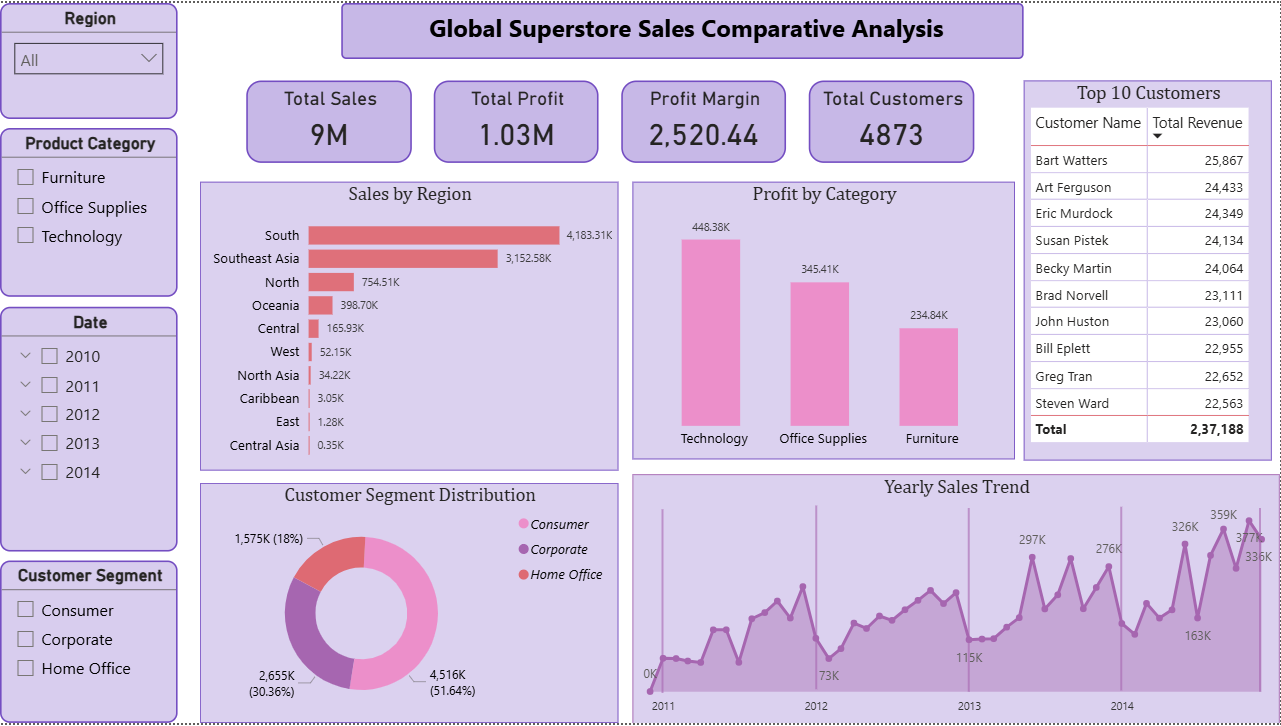

The page's visual inventory and layout, read from the dashboard file:
{"tool":"powerbi","page":{"name":"Page 1","canvas":[1280,720],"ordinal":0},"visuals":[{"type":"textbox","box":[341.2,0,682.5,56.2],"z":0},{"type":"card","title":"Total Profit","fields":{"Values":["Sum(orders_tb.Profit)"]},"box":[434.1,77.5,164.6,82.6],"z":0,"group":"g3"},{"type":"group","id":"g1","title":"Group 2","box":[0,0,177.5,720],"z":1000},{"type":"card","title":"Total Sales","fields":{"Values":["Sum(orders_tb.Sales)"]},"box":[246.1,77.5,165.3,82.5],"z":1000,"group":"g3"},{"type":"group","id":"g2","title":"Group 3","box":[200,77.5,1080,643.1],"z":2000},{"type":"card","title":"Profit Margin","fields":{"Values":["Sum(orders_tb.Profit Margin)"]},"box":[621.5,77.5,164.6,82.6],"z":2000,"group":"g3"},{"type":"card","title":"Total Customers","fields":{"Values":["Count(customers_tb.Customer_ID)"]},"box":[808.8,77.5,165.8,82.6],"z":3000,"group":"g3"},{"type":"shape","box":[1115,503.8,12.5,183.8],"z":3000},{"type":"clusteredBarChart","title":"Sales by Region","fields":{"Y":["Sum(orders_tb.Sales)"],"Category":["customers_tb.Region"]},"box":[200,179.1,418.5,288.8],"z":4000,"group":"g2"},{"type":"shape","box":[806.2,502.5,20,183.8],"z":4000},{"type":"clusteredColumnChart","title":"Profit by Category","fields":{"Category":["orders_tb.Category"],"Y":["Sum(orders_tb.Profit)"]},"box":[632.7,179.1,382.3,277.5],"z":5000,"group":"g2"},{"type":"shape","box":[965,505,7.5,183.8],"z":5000},{"type":"areaChart","title":"Yearly Sales Trend","fields":{"Y":["Sum(orders_tb.Sales)"],"Category":["orders_tb.Week_Date.Variation.Date Hierarchy.Year","orders_tb.Week_Date.Variation.Date Hierarchy.Month"]},"box":[632.5,470.6,647.5,250],"z":6000,"group":"g2"},{"type":"shape","box":[656.2,506.2,12.5,183.8],"z":6000},{"type":"tableEx","title":"Top 10 Customers","fields":{"Values":["customers_tb.Customer_Name","Sum(orders_tb.Sales)"]},"box":[1024.1,77.8,248,380],"z":7000,"group":"g2"},{"type":"shape","box":[1253.8,505,12.5,183.8],"z":7000},{"type":"donutChart","title":"Customer Segment Distribution","fields":{"Category":["customers_tb.Segment"],"Y":["Sum(orders_tb.Sales)"]},"box":[200,480.3,418.5,240],"z":8000,"group":"g2"},{"type":"slicer","title":"Date","fields":{"Values":["orders_tb.Week_Date.Variation.Date Hierarchy.Year","orders_tb.Week_Date.Variation.Date Hierarchy.Month","orders_tb.Week_Date.Variation.Date Hierarchy.Day"]},"box":[0,303.6,177.5,244.8],"z":9000,"group":"g1"},{"type":"slicer","title":"Region","fields":{"Values":["customers_tb.Region"]},"box":[0,0,177.5,116],"z":10000,"group":"g1"},{"type":"slicer","title":"Product Category","fields":{"Values":["orders_tb.Category"]},"box":[0,125.6,177.5,168.5],"z":11000,"group":"g1"},{"type":"slicer","title":"Customer Segment","fields":{"Values":["customers_tb.Segment"]},"box":[0,557.9,177.5,162.1],"z":12000,"group":"g1"},{"type":"group","id":"g3","title":"Group 1","box":[246.1,77.5,728.8,82.5],"z":13001,"group":"g2"}]}

Visuals, with their boxes in screenshot pixels (x1, y1, x2, y2), scaled from the page's 1280x720 canvas onto the 1281x726 screenshot:
textbox: pyautogui.locateOnScreen(341, 0, 1024, 57)
"Total Profit" card: pyautogui.locateOnScreen(434, 78, 599, 161)
"Group 2" group: pyautogui.locateOnScreen(0, 0, 178, 725)
"Total Sales" card: pyautogui.locateOnScreen(246, 78, 412, 161)
"Group 3" group: pyautogui.locateOnScreen(200, 78, 1280, 725)
"Profit Margin" card: pyautogui.locateOnScreen(622, 78, 787, 161)
"Total Customers" card: pyautogui.locateOnScreen(809, 78, 975, 161)
shape: pyautogui.locateOnScreen(1116, 508, 1128, 693)
"Sales by Region" clusteredBarChart: pyautogui.locateOnScreen(200, 181, 619, 472)
shape: pyautogui.locateOnScreen(807, 507, 827, 692)
"Profit by Category" clusteredColumnChart: pyautogui.locateOnScreen(633, 181, 1016, 460)
shape: pyautogui.locateOnScreen(966, 509, 973, 695)
"Yearly Sales Trend" areaChart: pyautogui.locateOnScreen(633, 475, 1280, 725)
shape: pyautogui.locateOnScreen(657, 510, 669, 696)
"Top 10 Customers" tableEx: pyautogui.locateOnScreen(1025, 78, 1273, 462)
shape: pyautogui.locateOnScreen(1255, 509, 1267, 695)
"Customer Segment Distribution" donutChart: pyautogui.locateOnScreen(200, 484, 619, 725)
"Date" slicer: pyautogui.locateOnScreen(0, 306, 178, 553)
"Region" slicer: pyautogui.locateOnScreen(0, 0, 178, 117)
"Product Category" slicer: pyautogui.locateOnScreen(0, 127, 178, 297)
"Customer Segment" slicer: pyautogui.locateOnScreen(0, 563, 178, 725)
"Group 1" group: pyautogui.locateOnScreen(246, 78, 976, 161)
